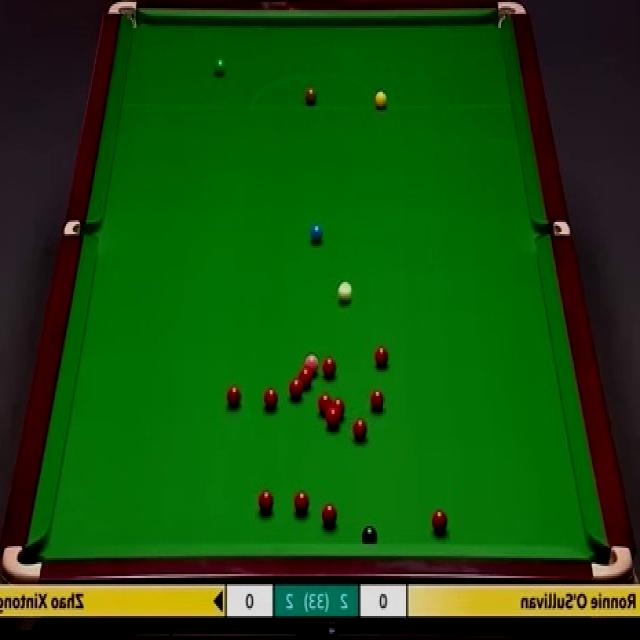black-ball: (358, 525, 376, 544)
blue-ball: (310, 225, 324, 242)
brown-ball: (304, 88, 317, 110)
green-ball: (215, 58, 225, 73)
pink-ball: (304, 354, 318, 374)
red-ball: (316, 393, 333, 419), (225, 385, 244, 408), (320, 504, 338, 528), (294, 488, 309, 516), (432, 509, 449, 533), (352, 417, 368, 441), (371, 387, 385, 412), (375, 346, 388, 370), (326, 408, 340, 430), (258, 491, 272, 513), (290, 380, 303, 402), (331, 399, 345, 418), (299, 367, 313, 386), (264, 390, 278, 408), (324, 357, 337, 376)
white-ball: (336, 280, 353, 306)
yellow-ball: (375, 90, 387, 110)
